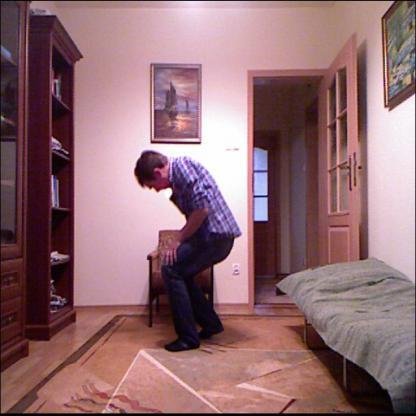fall: (133, 142, 243, 354)
